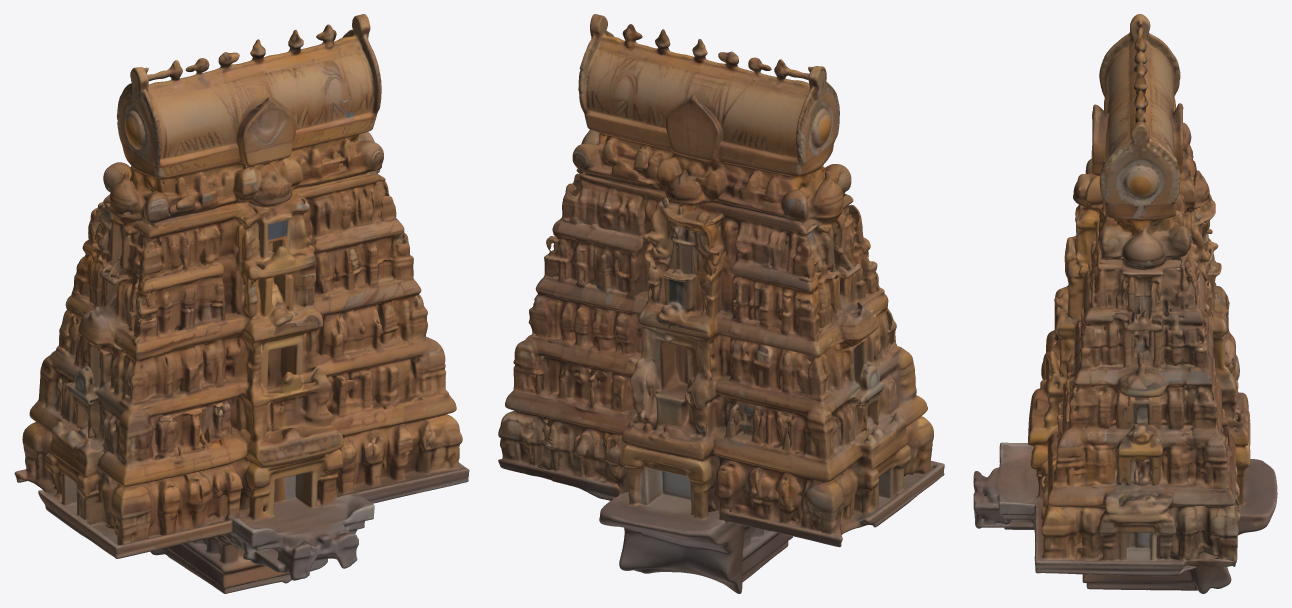
File: rameswaram_temple.glb
3 views of the same model, side by side, from view 1: azimuth 30°, elevation 25°; view 2: azimuth 150°, elevation 25°; view 3: azimuth 270°, elevation 25° (orthographic). The views are drawn at different scales.
Parts seen in each view (by area): view 1: tripo_node_13728905-e3c0-4d2f-a1e0-e6853b49f555; view 2: tripo_node_13728905-e3c0-4d2f-a1e0-e6853b49f555; view 3: tripo_node_13728905-e3c0-4d2f-a1e0-e6853b49f555.
Boxes of the visible parts, bbox=[...] form: tripo_node_13728905-e3c0-4d2f-a1e0-e6853b49f555: bbox=[14, 14, 469, 593]; tripo_node_13728905-e3c0-4d2f-a1e0-e6853b49f555: bbox=[498, 14, 944, 593]; tripo_node_13728905-e3c0-4d2f-a1e0-e6853b49f555: bbox=[973, 14, 1277, 593].
Size of the model in its own units: 0.7157 by 1 by 0.5424.
1 material, 1 textured.
